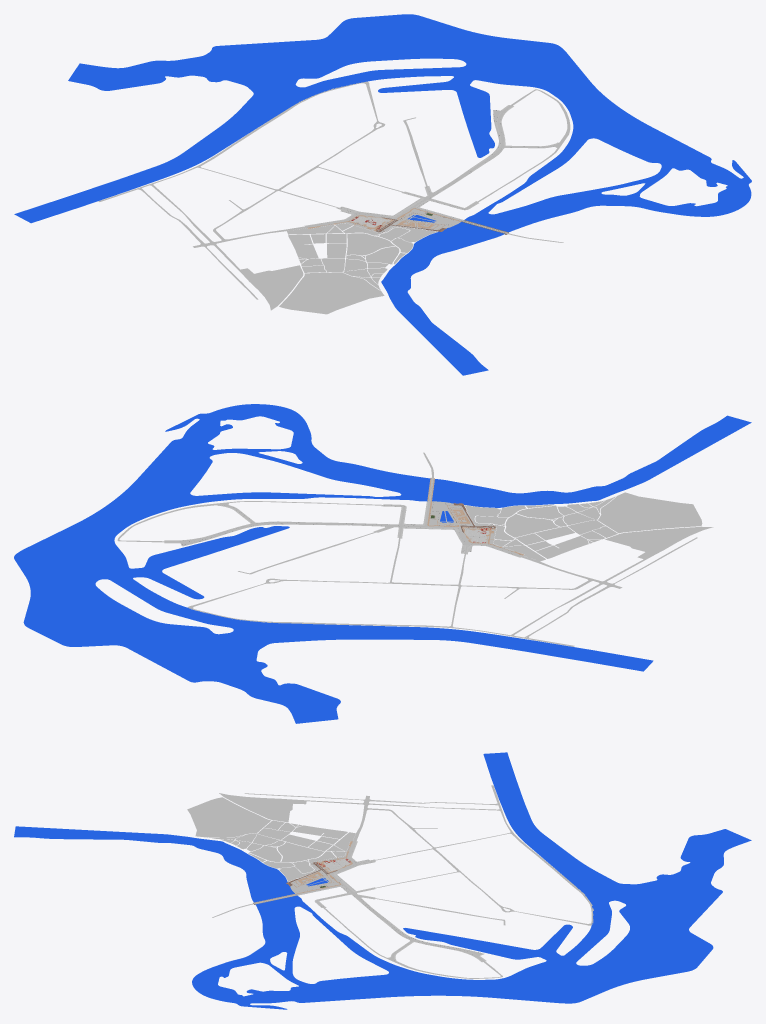
The model's file is MODEL_Environment.FBX.
The picture shows the model from 3 angles, top to bottom: view 1: azimuth 30°, elevation 25°; view 2: azimuth 150°, elevation 25°; view 3: azimuth 270°, elevation 25°; orthographic projection. The views are drawn at different scales.
Parts seen in each view (by area): view 1: SM_River, SM_GrassLight, RoadAdd, SM_TileFloor, SM_Asphalt, SM_GrassPlane; view 2: SM_River, SM_GrassLight, RoadAdd, SM_TileFloor, SM_Asphalt, SM_GrassPlane; view 3: SM_River, SM_GrassLight, RoadAdd, SM_TileFloor, SM_Asphalt, SM_GrassPlane.
Boxes of the visible parts, box(x1,y1,x2,y2) form: SM_River: box(14, 14, 751, 375); SM_GrassLight: box(240, 223, 437, 314); RoadAdd: box(98, 81, 570, 299); SM_TileFloor: box(304, 105, 558, 232); SM_Asphalt: box(286, 97, 568, 234); SM_GrassPlane: box(317, 111, 505, 232); SM_River: box(14, 404, 751, 723); SM_GrassLight: box(464, 492, 713, 561); RoadAdd: box(117, 452, 697, 646); SM_TileFloor: box(164, 501, 523, 557); SM_Asphalt: box(142, 476, 539, 563); SM_GrassPlane: box(179, 501, 514, 553); SM_River: box(14, 752, 751, 1009); SM_GrassLight: box(187, 793, 355, 881); RoadAdd: box(212, 785, 593, 978); SM_TileFloor: box(288, 841, 486, 962); SM_Asphalt: box(250, 833, 493, 968); SM_GrassPlane: box(290, 846, 476, 957).
Size of the model in its own units: 4223 by 19.41 by 5120.
